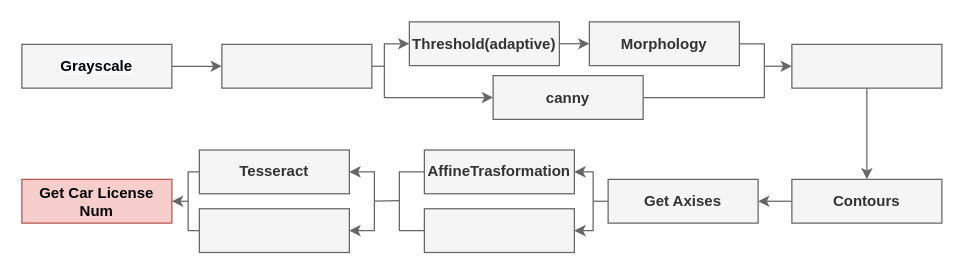
Some shapes in this 964 by 275 pixel diagram are drawn without their labels. Each missing label, with the centre of its shape:
"Gaussian Blur" belongs at point 296,65.
"Perspective Transformation" belongs at point 498,230.
"Threshold Binary" belongs at point 866,65.
"Use leaned model" belongs at point 273,230.
